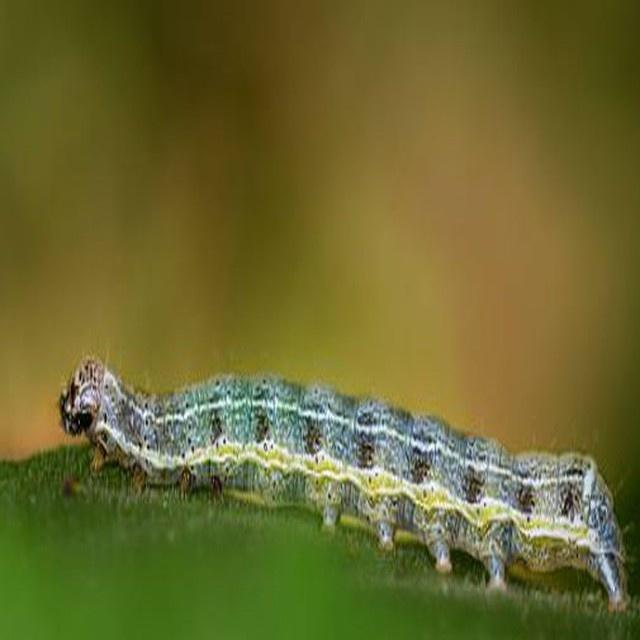Plaga: (56, 360, 628, 603)
